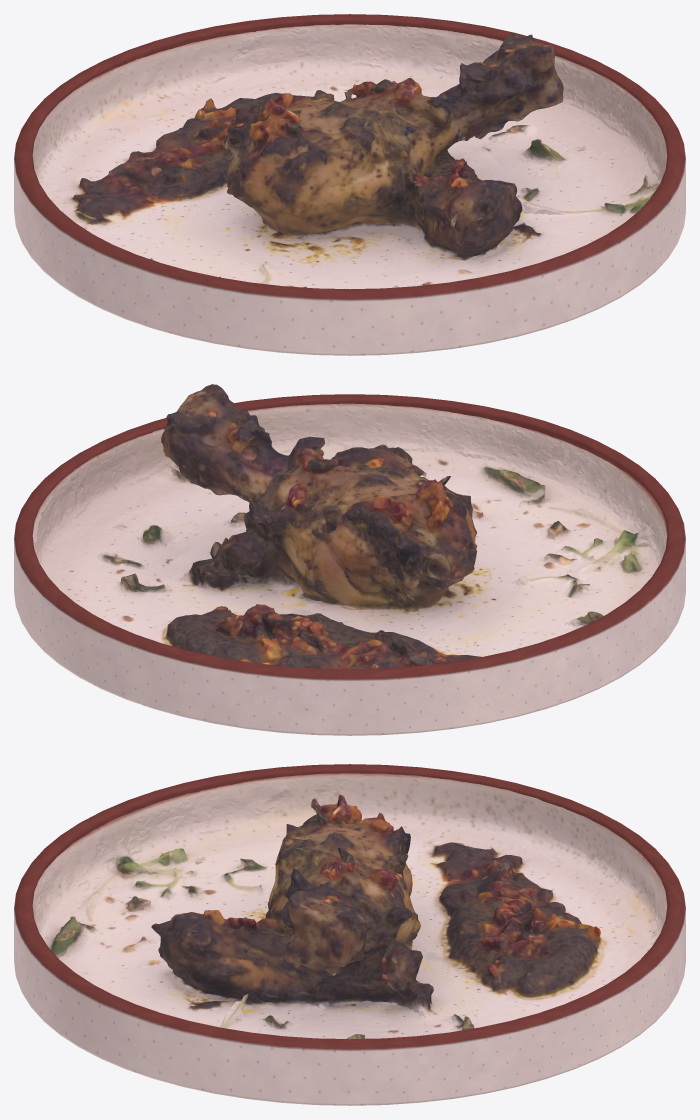
File: Til Amra Murgi.glb
3 renders of one model, top to bottom at view 1: azimuth 30°, elevation 25°; view 2: azimuth 150°, elevation 25°; view 3: azimuth 270°, elevation 25°, orthographic.
Parts seen in each view (by area): view 1: default1.001, pCylinder1.001; view 2: default1.001, pCylinder1.001; view 3: default1.001, pCylinder1.001.
Boxes of the visible parts, x1=… form: default1.001: x1=32, y1=24, x2=667, y2=289; pCylinder1.001: x1=14, y1=14, x2=685, y2=355; default1.001: x1=32, y1=384, x2=667, y2=724; pCylinder1.001: x1=14, y1=394, x2=685, y2=735; default1.001: x1=32, y1=773, x2=667, y2=1039; pCylinder1.001: x1=14, y1=764, x2=685, y2=1105.
Size of the model in its own units: 0.142 by 0.035 by 0.142.
2 materials, 2 textured.
